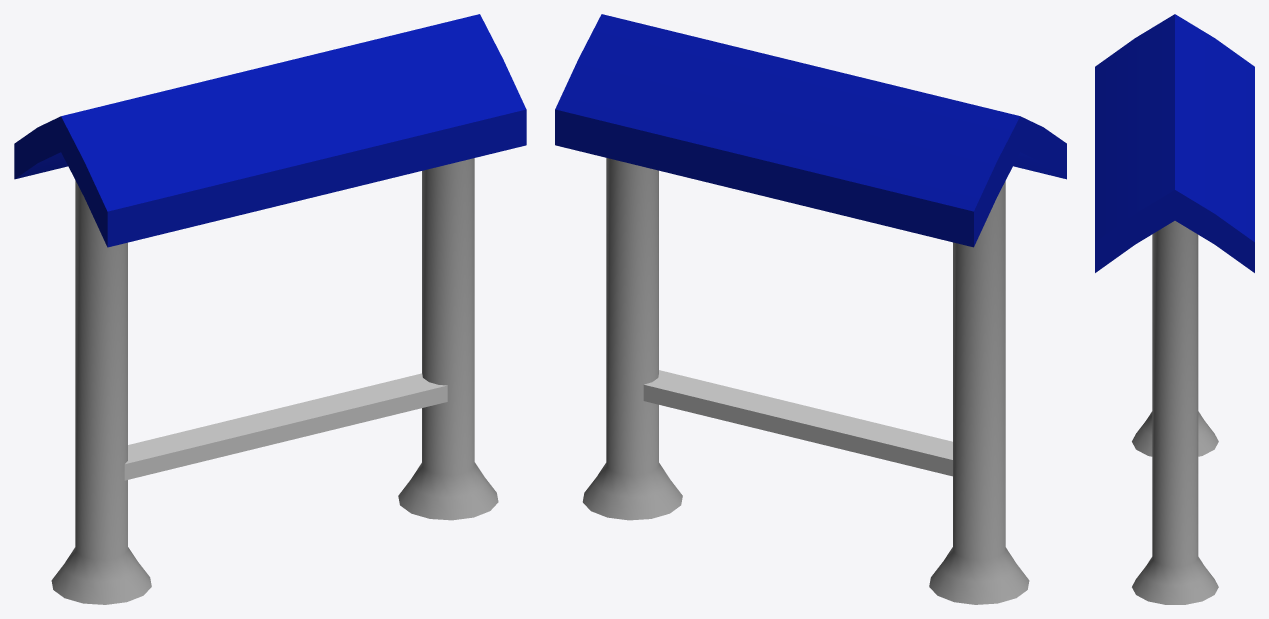
The model's file is PontoDeOnibusLOD0.fbx.
The picture shows the model from 3 angles, left to right: view 1: azimuth 30°, elevation 25°; view 2: azimuth 150°, elevation 25°; view 3: azimuth 270°, elevation 25°; orthographic projection. The views are drawn at different scales.
Visible parts, largest first — view 1: PontoDeOnibusPequeno; view 2: PontoDeOnibusPequeno; view 3: PontoDeOnibusPequeno.
Boxes of the visible parts, x1,y1,x2,y2 form: PontoDeOnibusPequeno: (14,14,526,604); PontoDeOnibusPequeno: (555,14,1066,604); PontoDeOnibusPequeno: (1095,14,1254,604).
Bounding box in the file's own units: 201 × 212 × 74.84.
